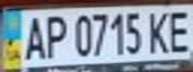0: (69, 10, 93, 58)
1: (109, 9, 127, 55)
5: (124, 8, 148, 55)
7: (90, 10, 109, 56)
A: (18, 12, 48, 61)
E: (163, 7, 193, 54)
K: (145, 8, 175, 55)
P: (39, 11, 69, 61)
